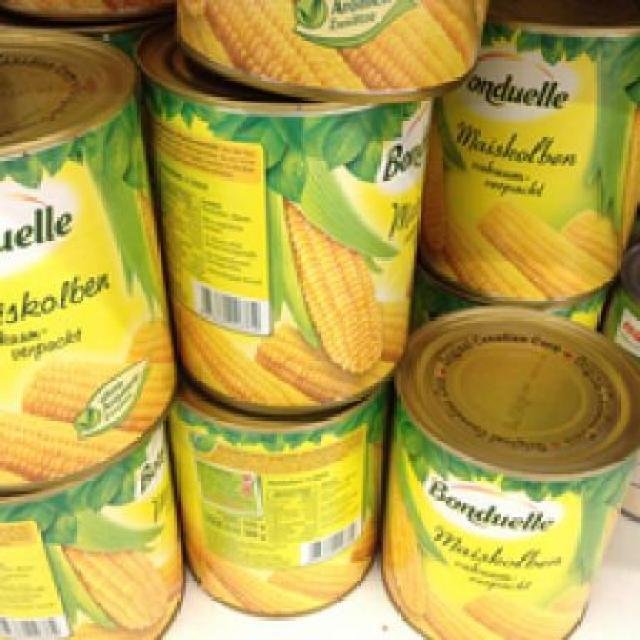Corn: (134, 22, 417, 412), (392, 299, 638, 632), (0, 31, 177, 488), (425, 11, 638, 300), (160, 383, 383, 617), (0, 417, 183, 637)
